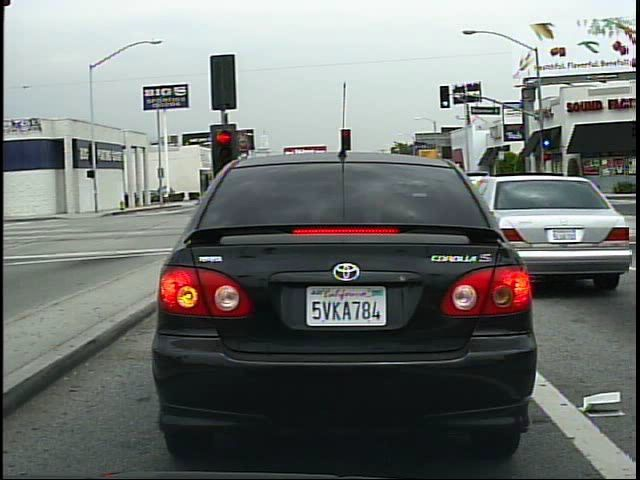person: (517, 168, 532, 201), (164, 184, 172, 206)
